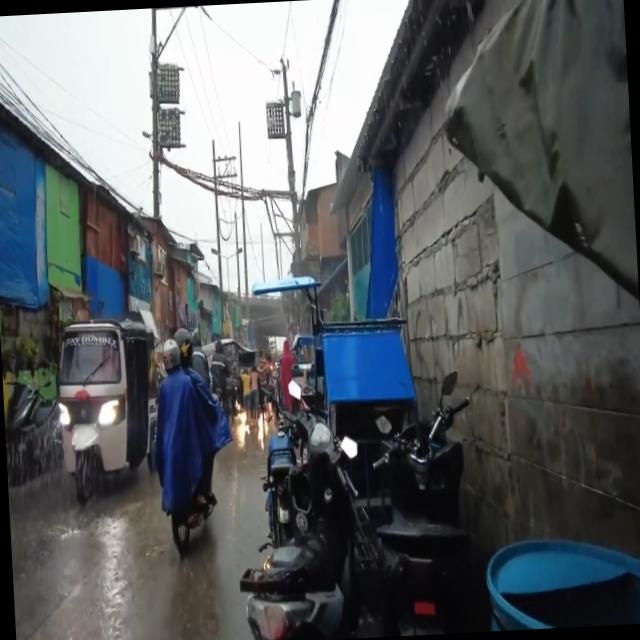full: (174, 326, 194, 365)
half: (162, 338, 182, 372)
